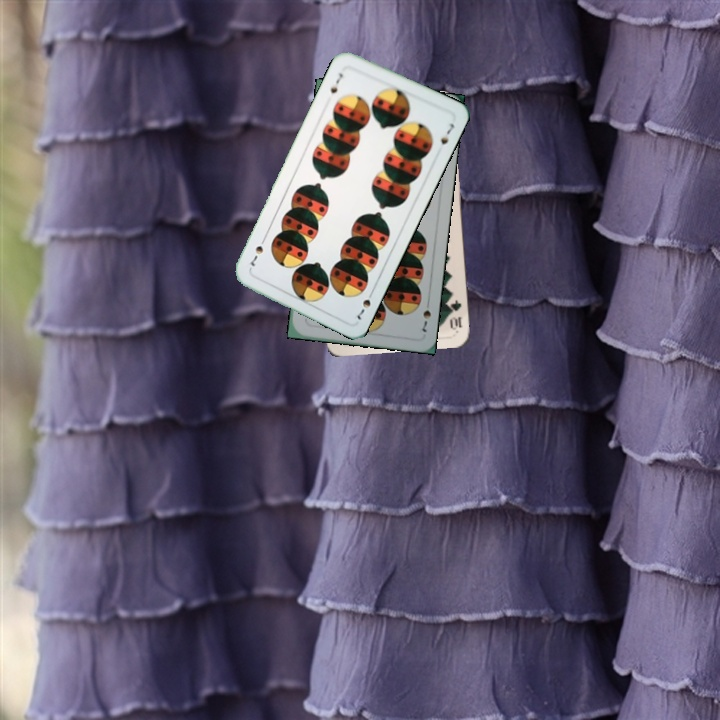G10: (446, 296, 465, 332)
S7: (353, 286, 376, 323), (418, 296, 433, 335), (326, 69, 345, 96)
